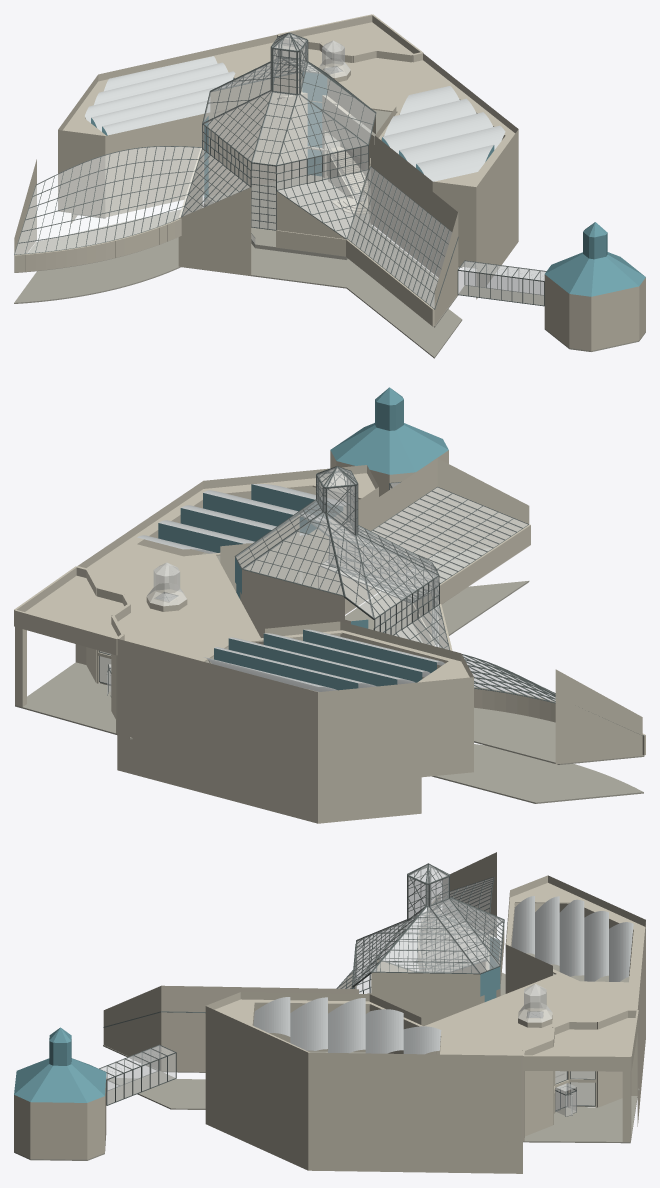
The model's file is MUDAM_R08_OKUMA_TAVANI_v002_preview.glb.
3 views of the same model, one above another, from view 1: azimuth 30°, elevation 25°; view 2: azimuth 150°, elevation 25°; view 3: azimuth 270°, elevation 25° (orthographic). The views are drawn at different scales.
Visible parts, largest first — view 1: P05_ZONE_LM1_GALLERIES_FOYER, P05_MAIN_ROOF_DECK, P05_GALLERY_HALL_WEST1, P05_MAIN_ATRIUM_BASE_3, P05_EAST_HIGH_R02_BEFORE, P04_PAV_WALL_ENVELOPE, R07_STAIRWELL_STONE_NORTH, P05_FRONT_0, P05_FLOOR_L00_GH, P05_GALLERY_HALL_WEST2, P04_PAV_ROOF_SLOPE, P05_FLOOR_L00_EAST_GARDEN (+20 smaller); view 2: P05_FRONT_9, P05_MAIN_ROOF_DECK, P05_FRONT_10, P05_ZONE_LM1_GALLERIES_FOYER, P05_EAST_HIGH_R02_BEFORE, P05_WEST_END, P05_EAST_END, P05_GALLERY_HALL_WEST3, P04_PAV_ROOF_SLOPE, P07_CANOPY_PAVING_DISPLAY, P05_FLOOR_L00_WEST_CAFE, P07_CANOPY_SLAB_ENVELOPE (+25 smaller); view 3: P05_FRONT_1, P05_MAIN_ROOF_DECK, P05_FRONT_0, P04_PAV_WALL_ENVELOPE, P05_EAST_HIGH_R02_BEFORE, P05_EAST_END, P04_PAV_ROOF_SLOPE, P07_CANOPY_PAVING_DISPLAY, P06_HIGH_EAVE_UPSTAND_5, P07_CANOPY_SLAB_ENVELOPE, P05_WEST_END, P07_ENTRY_RETURN_1 (+15 smaller).
Part boxes in pixels (x1,y1,x2,y2): P05_ZONE_LM1_GALLERIES_FOYER: [14, 237, 462, 358]; P05_MAIN_ROOF_DECK: [62, 42, 517, 186]; P05_GALLERY_HALL_WEST1: [105, 112, 212, 217]; P05_MAIN_ATRIUM_BASE_3: [208, 93, 307, 196]; P05_EAST_HIGH_R02_BEFORE: [370, 142, 457, 277]; P04_PAV_WALL_ENVELOPE: [544, 274, 645, 350]; R07_STAIRWELL_STONE_NORTH: [178, 187, 251, 275]; P05_FRONT_0: [476, 129, 518, 299]; P05_FLOOR_L00_GH: [204, 176, 370, 257]; P05_GALLERY_HALL_WEST2: [58, 130, 105, 217]; P04_PAV_ROOF_SLOPE: [545, 252, 645, 296]; P05_FLOOR_L00_EAST_GARDEN: [348, 224, 457, 327]; P05_FRONT_9: [117, 639, 317, 823]; P05_MAIN_ROOF_DECK: [86, 473, 473, 701]; P05_FRONT_10: [318, 682, 421, 823]; P05_ZONE_LM1_GALLERIES_FOYER: [432, 581, 643, 803]; P05_EAST_HIGH_R02_BEFORE: [319, 458, 437, 614]; P05_WEST_END: [555, 669, 642, 764]; P05_EAST_END: [437, 458, 529, 552]; P05_GALLERY_HALL_WEST3: [421, 677, 473, 777]; P04_PAV_ROOF_SLOPE: [330, 423, 448, 474]; P07_CANOPY_PAVING_DISPLAY: [15, 662, 117, 734]; P05_FLOOR_L00_WEST_CAFE: [474, 707, 644, 764]; P07_CANOPY_SLAB_ENVELOPE: [25, 575, 124, 637]; P05_FRONT_1: [308, 1052, 522, 1173]; P05_MAIN_ROOF_DECK: [207, 883, 645, 1064]; P05_FRONT_0: [205, 1006, 308, 1170]; P04_PAV_WALL_ENVELOPE: [14, 1077, 106, 1159]; P05_EAST_HIGH_R02_BEFORE: [161, 985, 358, 1071]; P05_EAST_END: [103, 986, 161, 1070]; P04_PAV_ROOF_SLOPE: [14, 1058, 106, 1102]; P07_CANOPY_PAVING_DISPLAY: [523, 1096, 637, 1143]; P06_HIGH_EAVE_UPSTAND_5: [371, 972, 480, 996]; P07_CANOPY_SLAB_ENVELOPE: [533, 1018, 635, 1055]; P05_WEST_END: [442, 852, 496, 937]; P07_ENTRY_RETURN_1: [522, 1039, 553, 1136].
Size of the model in its own units: 80.45 by 35.94 by 93.28.
